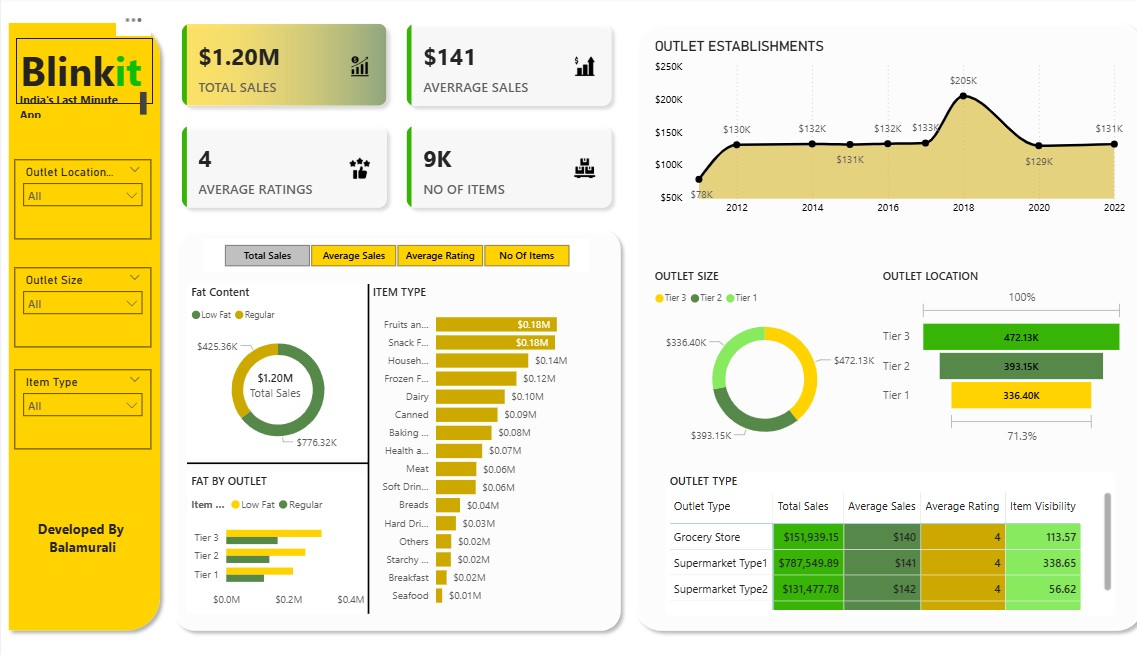

The page's visual inventory and layout, read from the dashboard file:
{"tool":"powerbi","page":{"name":"Page 1","canvas":[1400,800],"ordinal":0},"visuals":[{"type":"shape","box":[0,23.5,200.6,750],"z":0},{"type":"textbox","box":[18.1,50.6,164.5,79.5],"z":1000},{"type":"textbox","box":[18.1,110.2,162.7,41.6],"z":2000},{"type":"cardVisual","fields":{"Data":["BlinkIT Grocery Data.Total Sales","BlinkIT Grocery Data.Average Sales","BlinkIT Grocery Data.Average Rating","BlinkIT Grocery Data.No Of Items"]},"box":[200.6,16.3,553,256.6],"z":3000},{"type":"shape","box":[200.6,272.9,554.8,500.6],"z":4000},{"type":"donutChart","title":"Fat Content","fields":{"Y":["BlinkIT Grocery Data.Total Sales"],"Category":["BlinkIT Grocery Data.Item Fat Content"]},"box":[224.1,347,218.7,209.6],"z":5000},{"type":"slicer","fields":{"Values":["Metrics.Metrics"]},"box":[244,292.8,464.5,39.8],"z":6000},{"type":"cardVisual","fields":{"Data":["BlinkIT Grocery Data.Total Sales"]},"box":[244,399.4,173.5,137.4],"z":7000},{"type":"clusteredBarChart","title":"FAT BY OUTLET","fields":{"Y":["BlinkIT Grocery Data.Total Sales"],"Category":["BlinkIT Grocery Data.Outlet Location Type"],"Series":["BlinkIT Grocery Data.Item Fat Content"]},"box":[224.1,574.7,218.7,169.9],"z":8000},{"type":"shape","box":[224.1,482.5,218.7,160.8],"z":9000},{"type":"shape","box":[316.3,347,253,397.6],"z":10000},{"type":"barChart","title":"ITEM TYPE","fields":{"Y":["BlinkIT Grocery Data.Total Sales"],"Category":["BlinkIT Grocery Data.Item Type"]},"box":[442.8,347,272.9,397.6],"z":11000},{"type":"shape","box":[755.4,23.5,628.9,750],"z":12000},{"type":"lineChart","title":"OUTLET ESTABLISHMENTS","fields":{"Y":["BlinkIT Grocery Data.Total Sales"],"Category":["BlinkIT Grocery Data.Outlet Establishment Year"]},"box":[782.5,50.6,576.5,222.3],"z":13000},{"type":"donutChart","title":"OUTLET SIZE","fields":{"Y":["BlinkIT Grocery Data.Total Sales"],"Category":["BlinkIT Grocery Data.Outlet Location Type"]},"box":[782.5,327.1,274.7,224.1],"z":14000},{"type":"funnel","title":"OUTLET LOCATION","fields":{"Y":["Sum(BlinkIT Grocery Data.Sales)"],"Category":["BlinkIT Grocery Data.Outlet Location Type"]},"box":[1057.3,327.1,300,218.7],"z":15000},{"type":"pivotTable","title":"OUTLET TYPE","fields":{"Rows":["BlinkIT Grocery Data.Outlet Type"],"Values":["BlinkIT Grocery Data.Total Sales","BlinkIT Grocery Data.Average Sales","BlinkIT Grocery Data.Average Rating","Sum(BlinkIT Grocery Data.Item Visibility)"]},"box":[800.6,574.7,542.2,169.9],"z":16000},{"type":"slicer","fields":{"Values":["BlinkIT Grocery Data.Outlet Location Type"]},"box":[16.3,197,164.5,95.8],"z":17000},{"type":"slicer","fields":{"Values":["BlinkIT Grocery Data.Outlet Size"]},"box":[16.3,327.1,164.5,95.8],"z":18000},{"type":"slicer","fields":{"Values":["BlinkIT Grocery Data.Item Type"]},"box":[16.3,450,164.5,95.8],"z":19000},{"type":"textbox","box":[12.7,625.3,171.7,68.7],"z":20000}]}

Visuals, with their boxes in screenshot pixels (x1, y1, x2, y2), scaled from the page's 1400x800 canvas onto the 1137x655 screenshot:
shape: [x1=0, y1=19, x2=163, y2=633]
textbox: [x1=15, y1=41, x2=148, y2=107]
textbox: [x1=15, y1=90, x2=147, y2=124]
cardVisual - BlinkIT Grocery Data.Total Sales x BlinkIT Grocery Data.Average Sales: [x1=163, y1=13, x2=612, y2=223]
shape: [x1=163, y1=223, x2=613, y2=633]
"Fat Content" donutChart: [x1=182, y1=284, x2=360, y2=456]
slicer - Metrics.Metrics: [x1=198, y1=240, x2=575, y2=272]
cardVisual - BlinkIT Grocery Data.Total Sales: [x1=198, y1=327, x2=339, y2=440]
"FAT BY OUTLET" clusteredBarChart: [x1=182, y1=471, x2=360, y2=610]
shape: [x1=182, y1=395, x2=360, y2=527]
shape: [x1=257, y1=284, x2=462, y2=610]
"ITEM TYPE" barChart: [x1=360, y1=284, x2=581, y2=610]
shape: [x1=613, y1=19, x2=1124, y2=633]
"OUTLET ESTABLISHMENTS" lineChart: [x1=636, y1=41, x2=1104, y2=223]
"OUTLET SIZE" donutChart: [x1=636, y1=268, x2=859, y2=451]
"OUTLET LOCATION" funnel: [x1=859, y1=268, x2=1102, y2=447]
"OUTLET TYPE" pivotTable: [x1=650, y1=471, x2=1091, y2=610]
slicer - BlinkIT Grocery Data.Outlet Location Type: [x1=13, y1=161, x2=147, y2=240]
slicer - BlinkIT Grocery Data.Outlet Size: [x1=13, y1=268, x2=147, y2=346]
slicer - BlinkIT Grocery Data.Item Type: [x1=13, y1=368, x2=147, y2=447]
textbox: [x1=10, y1=512, x2=150, y2=568]
